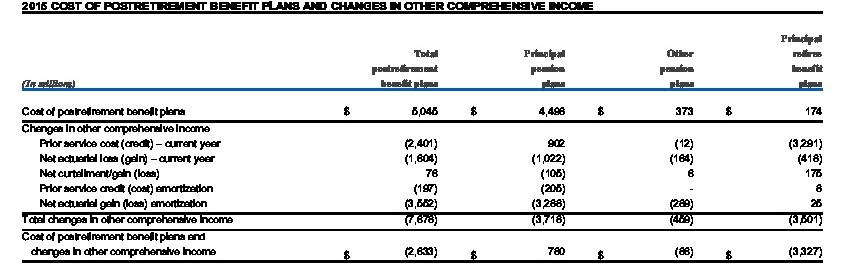table: (0, 0, 841, 274)
